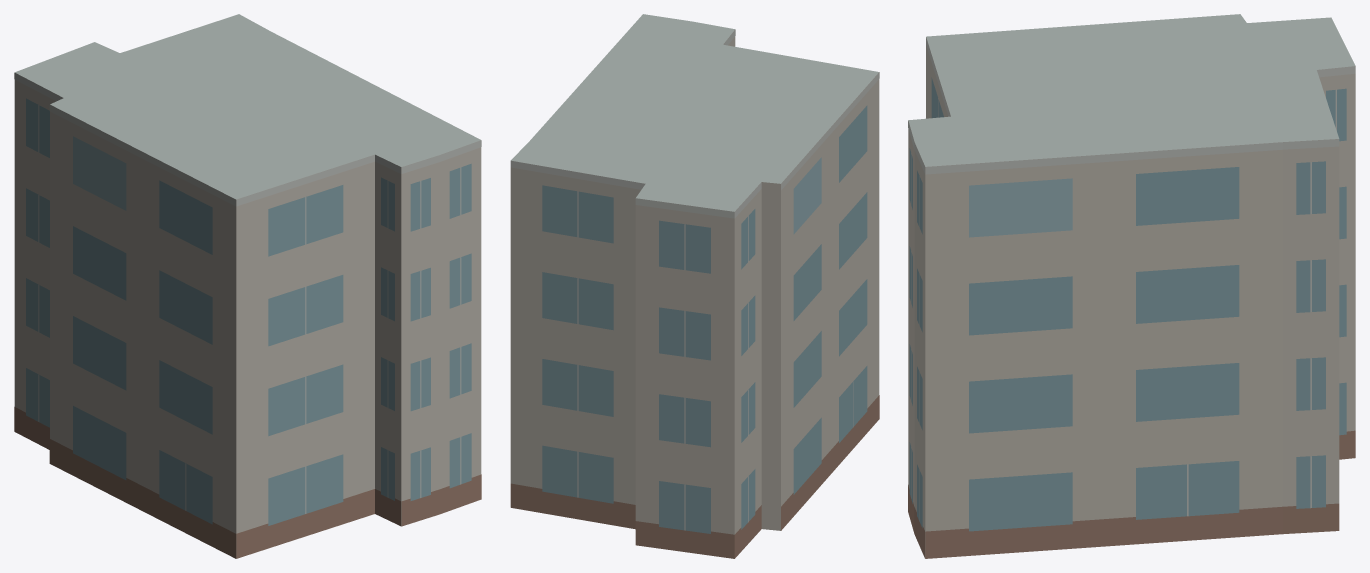
The model's file is survey-upis-32618690.glb.
3 views of the same model, side by side, from view 1: azimuth 30°, elevation 25°; view 2: azimuth 150°, elevation 25°; view 3: azimuth 270°, elevation 25° (orthographic). The views are drawn at different scales.
Parts seen in each view (by area): view 1: survey-upis-32618690.tmp; view 2: survey-upis-32618690.tmp; view 3: survey-upis-32618690.tmp.
Part boxes in pixels (left/top/right/bottom): survey-upis-32618690.tmp: left=14, top=14, right=481, bottom=558; survey-upis-32618690.tmp: left=510, top=14, right=879, bottom=558; survey-upis-32618690.tmp: left=908, top=14, right=1355, bottom=558.
Bounding box in the file's own units: 10.47 × 12.5 × 12.94.
